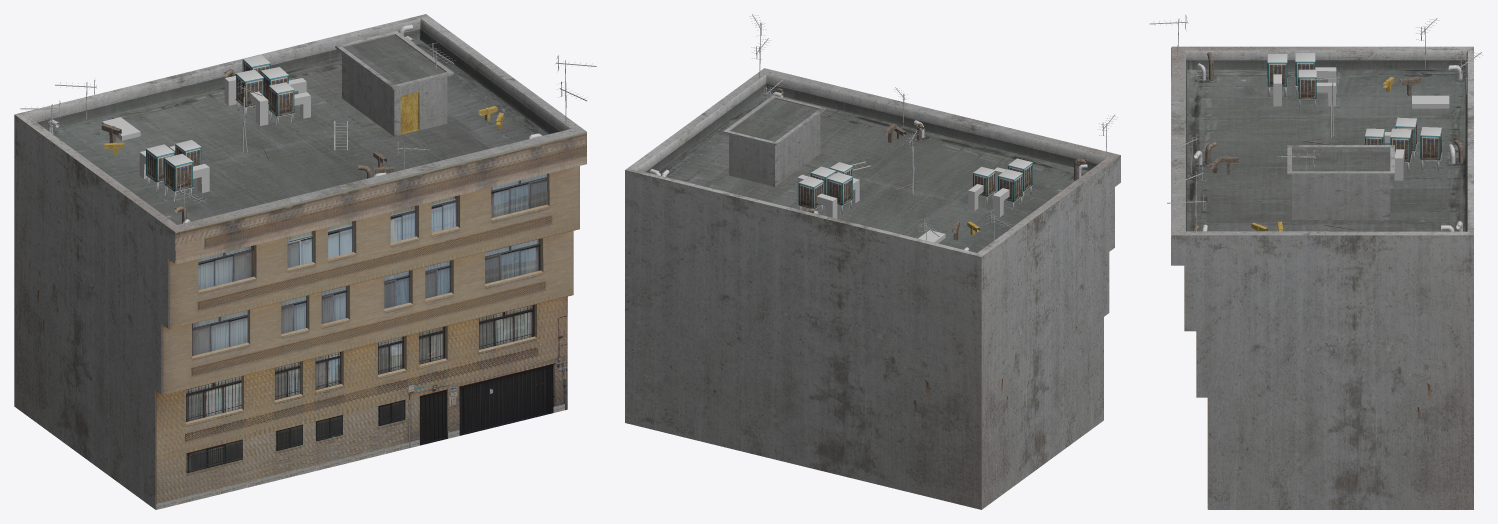
Rendered from Building02_m.fbx.
3 renders of one model, left to right at view 1: azimuth 30°, elevation 25°; view 2: azimuth 150°, elevation 25°; view 3: azimuth 270°, elevation 25°, orthographic. The views are drawn at different scales.
Visible parts, largest first — view 1: Rectangle01, ChamferBox27, ChamferBox35, Box19, ChamferBox37, ChamferBox31; view 2: Rectangle01, ChamferBox37, ChamferBox41, ChamferBox31; view 3: Rectangle01, ChamferBox41, ChamferBox27, ChamferBox33, ChamferBox39, Box223, ChamferBox31.
Boxes of the visible parts, <box> form: Rectangle01: <box>14,14,586,509</box>; ChamferBox27: <box>164,153,192,191</box>; ChamferBox35: <box>269,82,294,116</box>; Box19: <box>400,91,419,134</box>; ChamferBox37: <box>236,69,263,106</box>; ChamferBox31: <box>146,144,174,182</box>; Rectangle01: <box>625,68,1120,509</box>; ChamferBox37: <box>827,172,852,205</box>; ChamferBox41: <box>798,176,823,208</box>; ChamferBox31: <box>998,169,1022,201</box>; Rectangle01: <box>1171,46,1473,509</box>; ChamferBox41: <box>1420,127,1441,160</box>; ChamferBox27: <box>1267,54,1287,86</box>; ChamferBox33: <box>1298,69,1316,99</box>; ChamferBox39: <box>1390,128,1411,161</box>; Box223: <box>1412,95,1449,108</box>; ChamferBox31: <box>1295,53,1315,85</box>.
Bounding box in the file's own units: 21.23 × 16.64 × 14.95.
